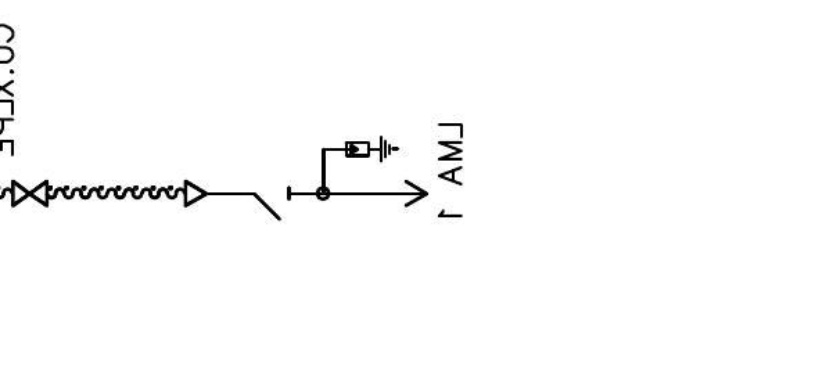22_ds_la_out: (253, 135, 430, 222)
terminator_single: (182, 178, 208, 210)
terminator_splicing_kits: (10, 179, 49, 208)
